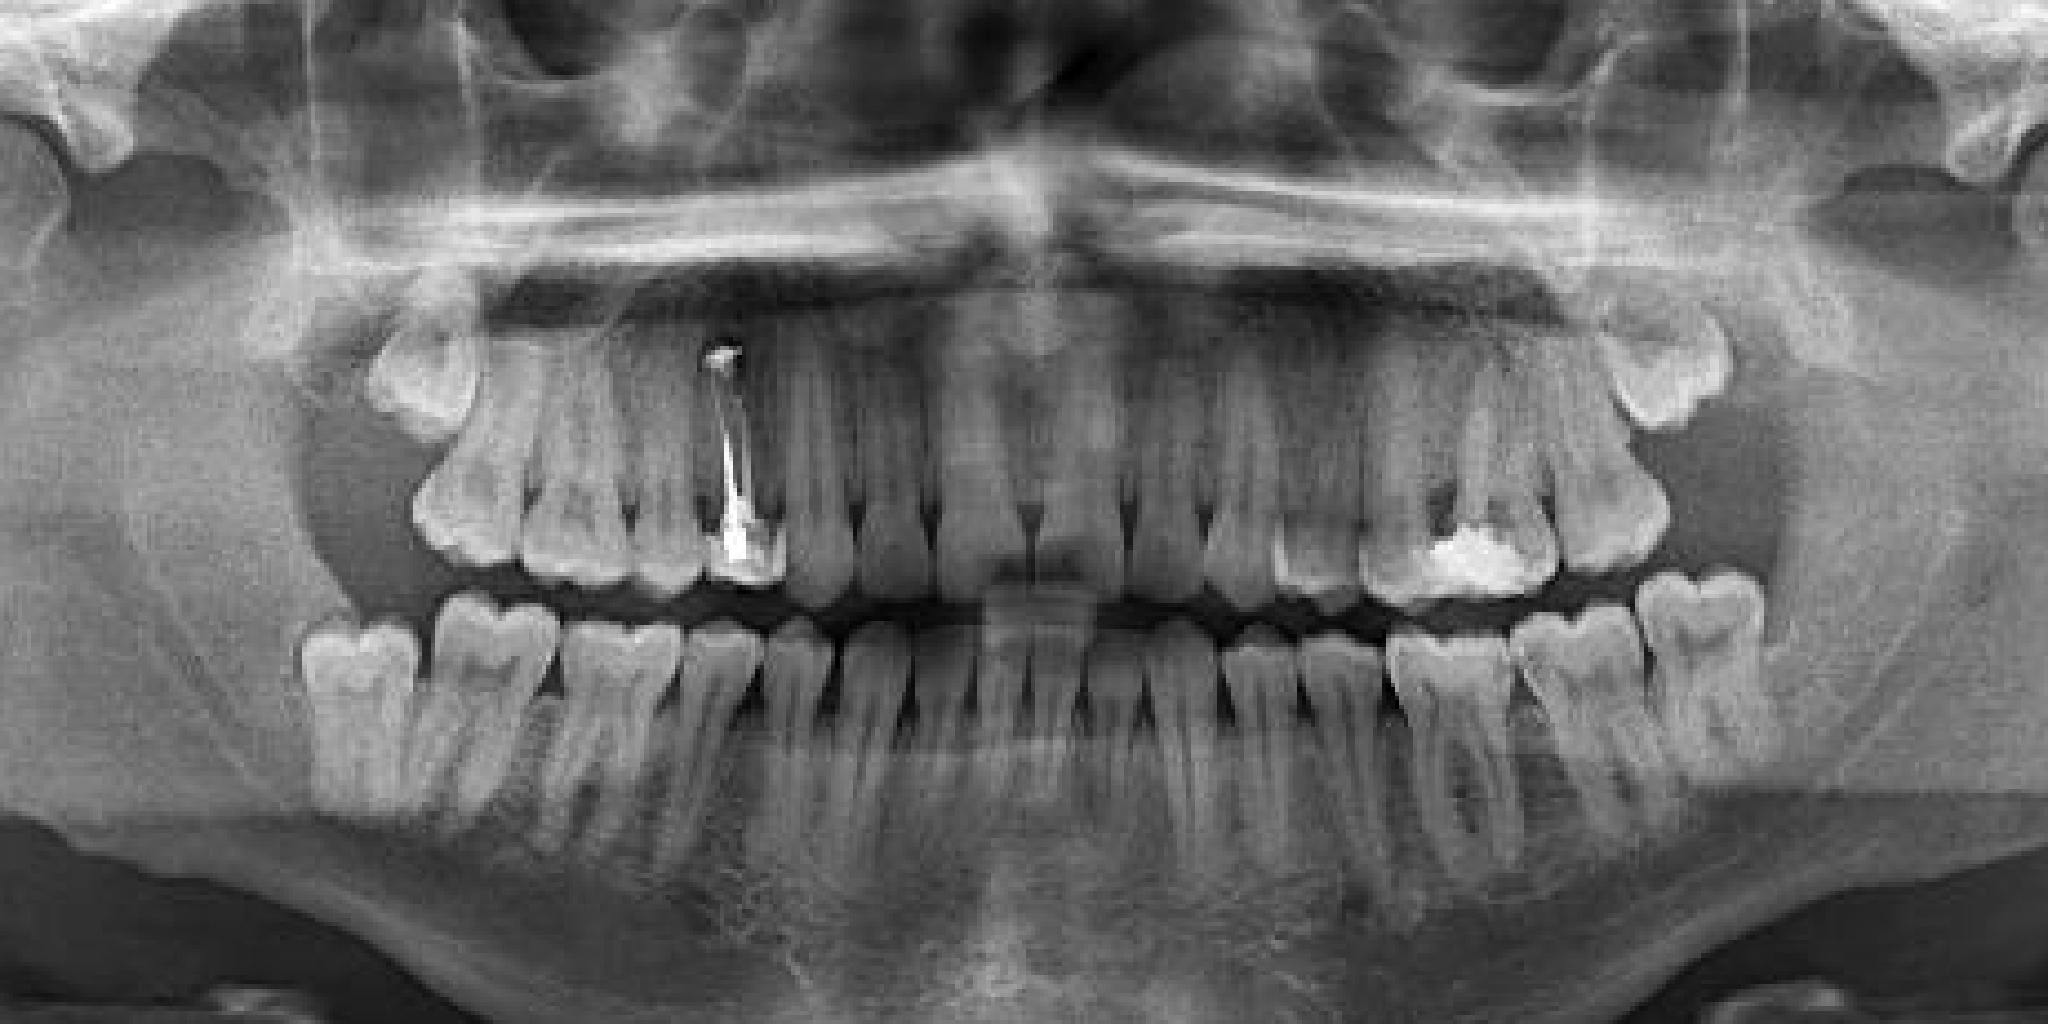Tooth: (1351, 586, 1590, 899), (473, 576, 704, 876), (1497, 580, 1701, 865), (1484, 308, 1689, 590), (388, 327, 600, 596), (1284, 606, 1458, 908), (606, 600, 780, 899), (389, 573, 572, 852), (269, 583, 457, 831), (1394, 340, 1563, 607), (1023, 280, 1157, 610), (1253, 327, 1396, 619), (741, 306, 871, 619), (486, 354, 640, 606), (795, 613, 925, 909), (1620, 556, 1782, 792), (922, 286, 1038, 600), (667, 330, 799, 605), (1209, 609, 1334, 893), (1341, 307, 1454, 616), (1576, 272, 1762, 456), (825, 321, 940, 609), (1114, 316, 1224, 609), (731, 601, 849, 872), (1125, 609, 1230, 896), (1195, 338, 1304, 616), (346, 278, 505, 462), (613, 323, 716, 603), (882, 613, 982, 872), (1064, 618, 1172, 859), (998, 610, 1098, 824), (963, 613, 1040, 825)
